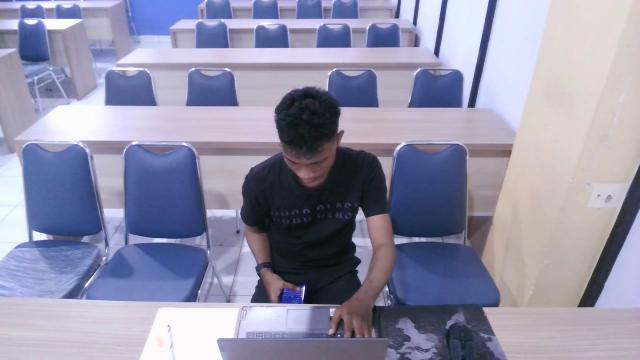Head_Down_Extreme: (231, 68, 399, 349)
Mobile_Phone: (275, 280, 314, 310)
